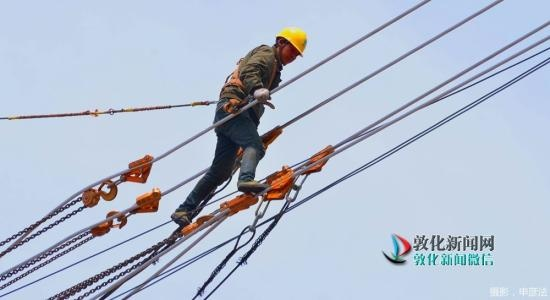yellow: (270, 24, 309, 67)
